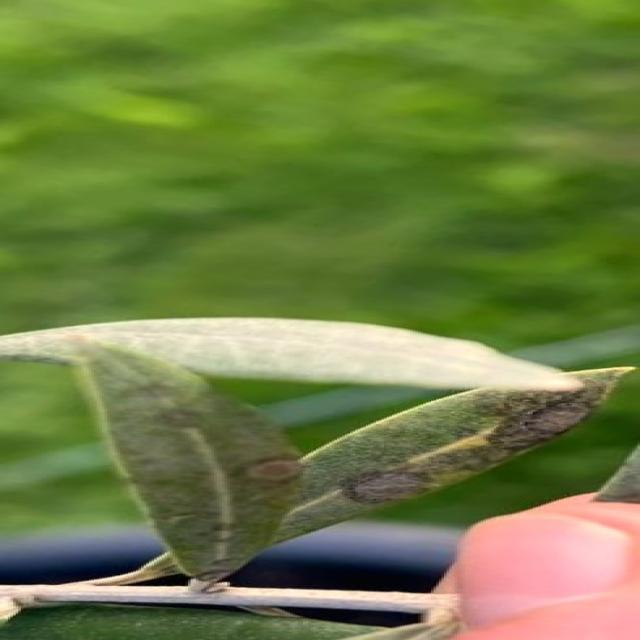OlivePeacockSpot: (79, 344, 298, 592), (274, 374, 582, 542)
